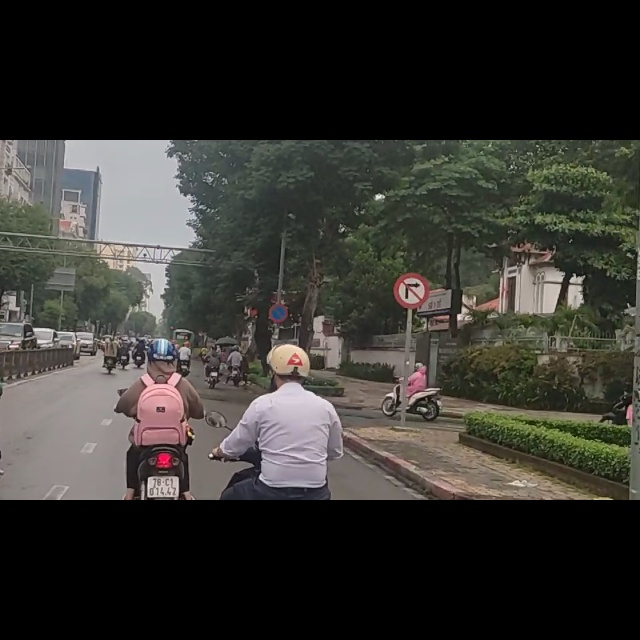bien_cam: (395, 237, 429, 294), (269, 290, 288, 325)
